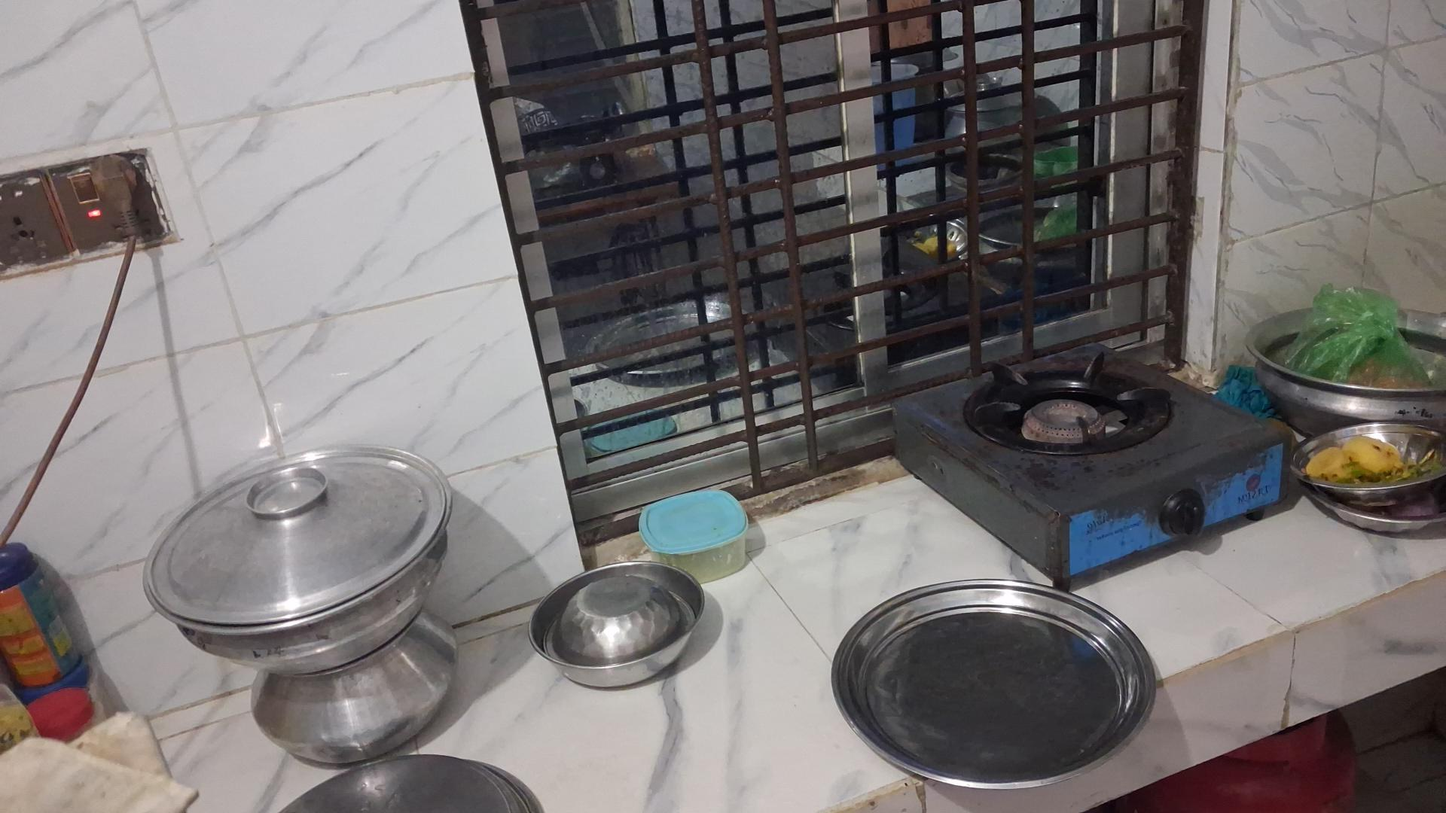Bowl: (529, 564, 707, 688), (1295, 422, 1444, 499)
Jar: (639, 485, 751, 582)
Plate: (833, 572, 1158, 794)
Pot: (142, 449, 450, 676), (1247, 305, 1446, 427)
